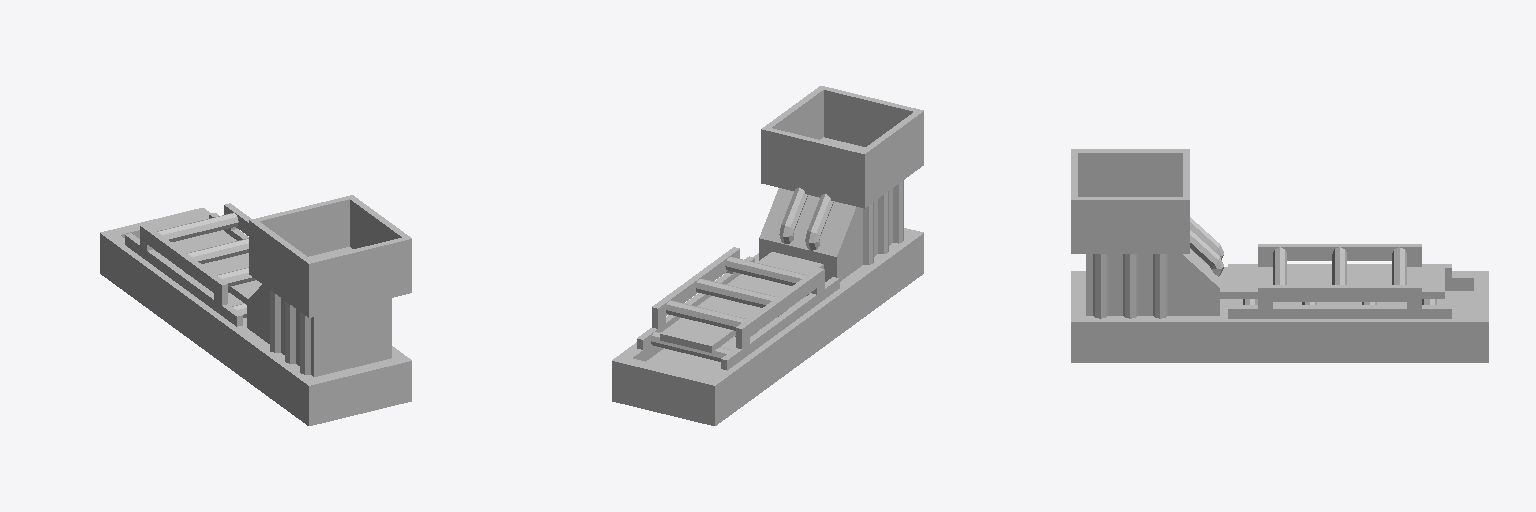
File: strand_caster.obj
3 views of the same model, side by side, from view 1: azimuth 30°, elevation 25°; view 2: azimuth 150°, elevation 25°; view 3: azimuth 270°, elevation 25° (orthographic).
Visible parts, largest first — view 1: caster, plate; view 2: caster, plate; view 3: caster, plate.
Boxes of the visible parts, x1=… form: caster: x1=100, y1=195, x2=411, y2=425; plate: x1=149, y1=213, x2=261, y2=304; caster: x1=612, y1=86, x2=923, y2=425; plate: x1=660, y1=252, x2=823, y2=352; caster: x1=1071, y1=149, x2=1488, y2=362; plate: x1=1220, y1=267, x2=1444, y2=298.
Bounding box in the file's own units: 2 × 3 × 7.